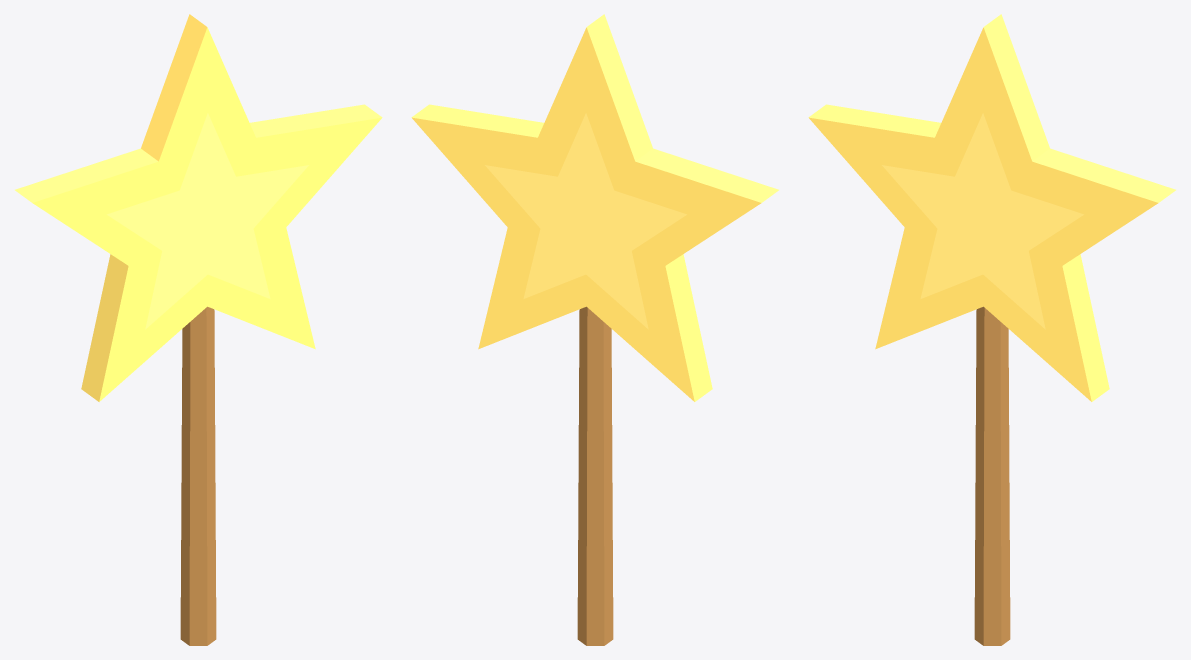
Rendered from spin-star.glb.
3 views of the same model, side by side, from view 1: azimuth 30°, elevation 25°; view 2: azimuth 150°, elevation 25°; view 3: azimuth 330°, elevation 25° (orthographic).
Visible parts, largest first — view 1: spin-star; view 2: spin-star; view 3: spin-star.
Boxes of the visible parts, left/top/right/bottom form: spin-star: left=15, top=14, right=382, bottom=645; spin-star: left=411, top=14, right=778, bottom=645; spin-star: left=808, top=14, right=1175, bottom=645.
Size of the model in its own units: 1.81 by 3.05 by 0.168.
